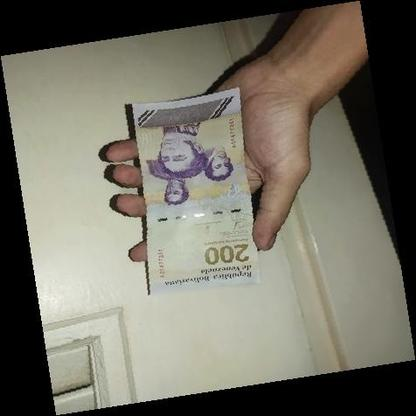two_hundred-front-vef: (131, 86, 261, 295)
